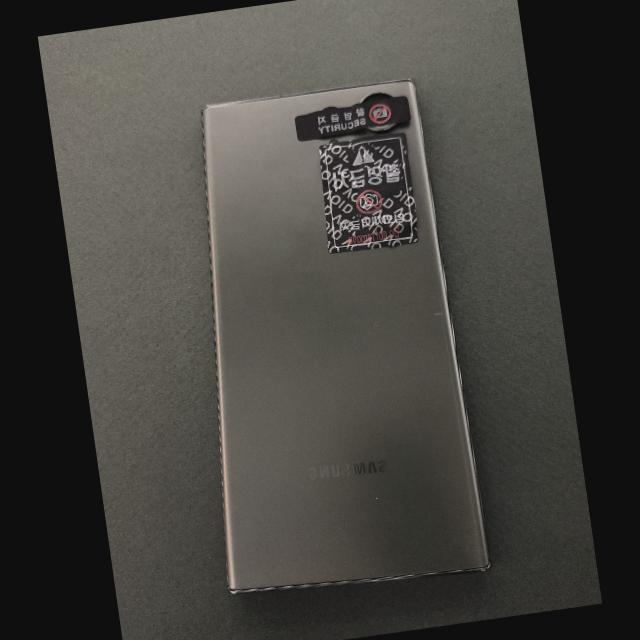lens: (362, 92, 393, 103), (320, 107, 340, 111)
phone: (201, 79, 490, 594)
sticker: (319, 132, 418, 254), (295, 96, 410, 142)
